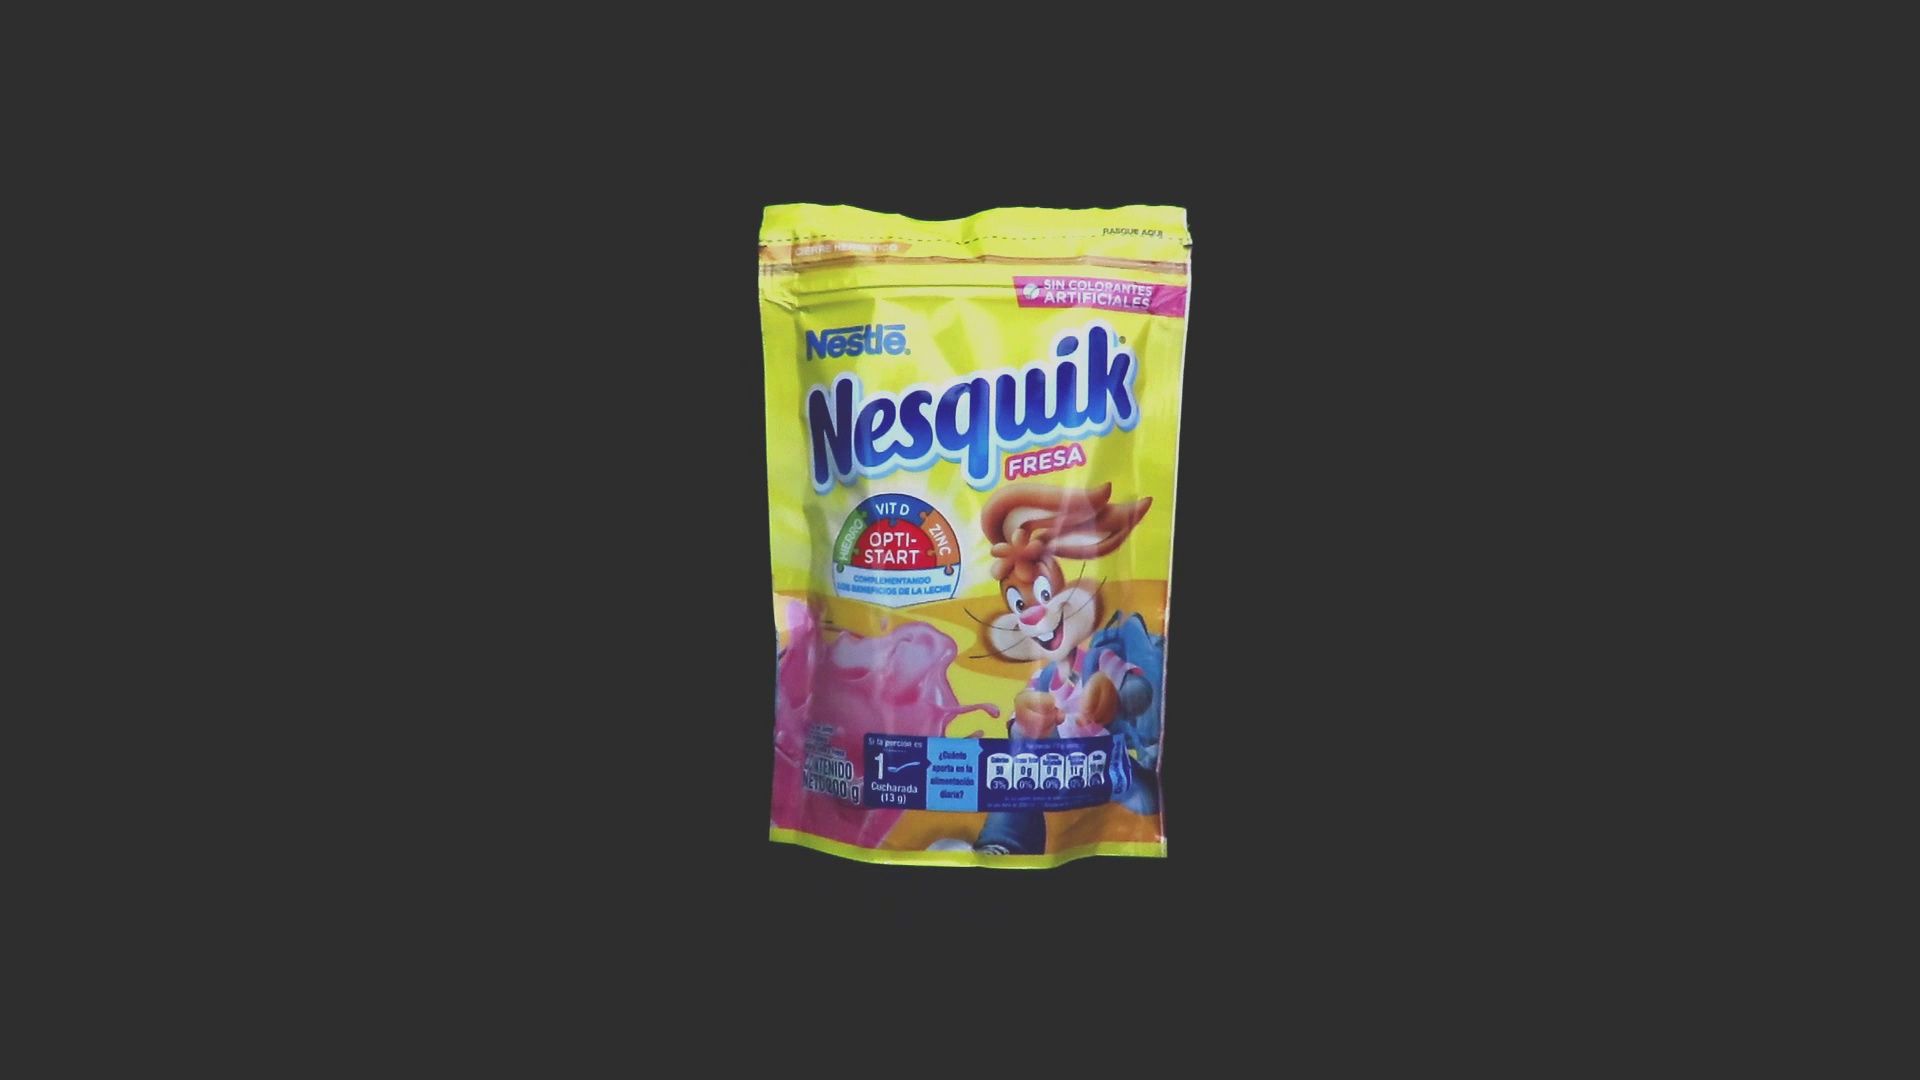COL0170305DYP20000: (753, 198, 1199, 876)
